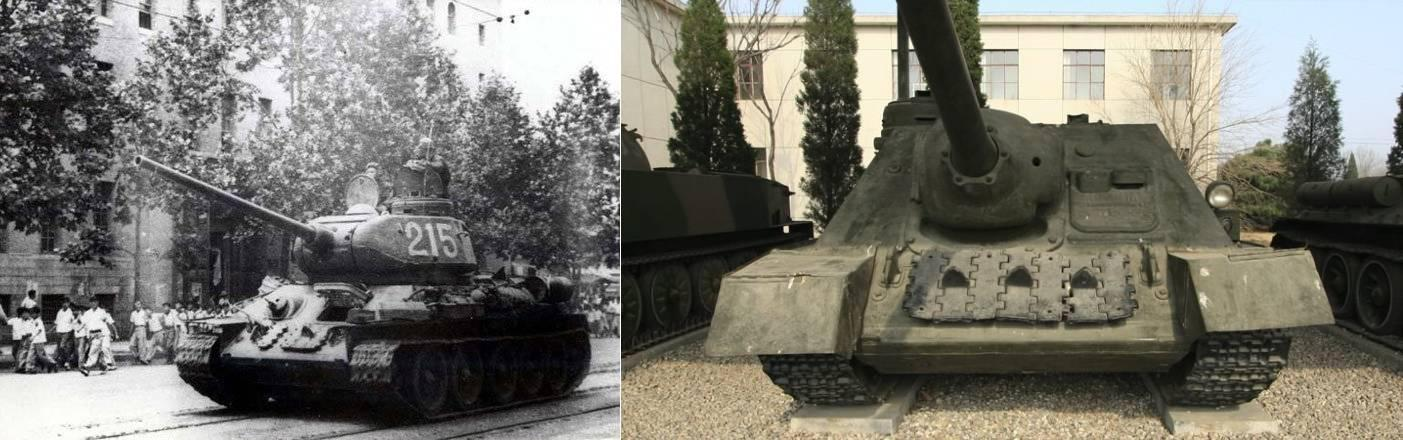MIL_IFV: (699, 3, 1332, 413), (132, 144, 596, 424)
